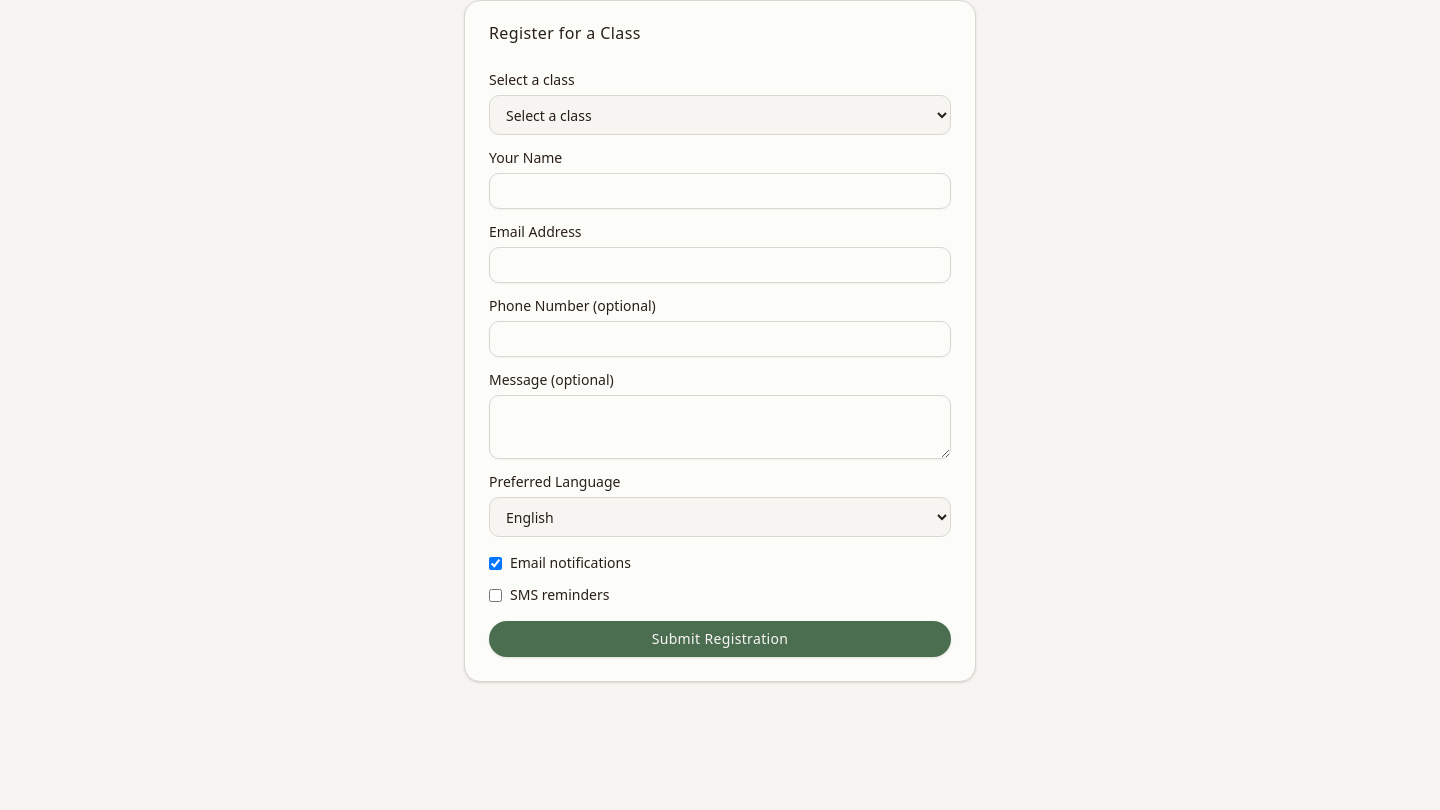
RegistrationForm - Consent Flow › Consent Warning and Modal › should open consent modal when Sign Waiver button is clicked
Step 1. Select "Morning Hatha - Free" in the dropdown labelled "Select a class" → (720, 115), box [489, 95, 951, 135]
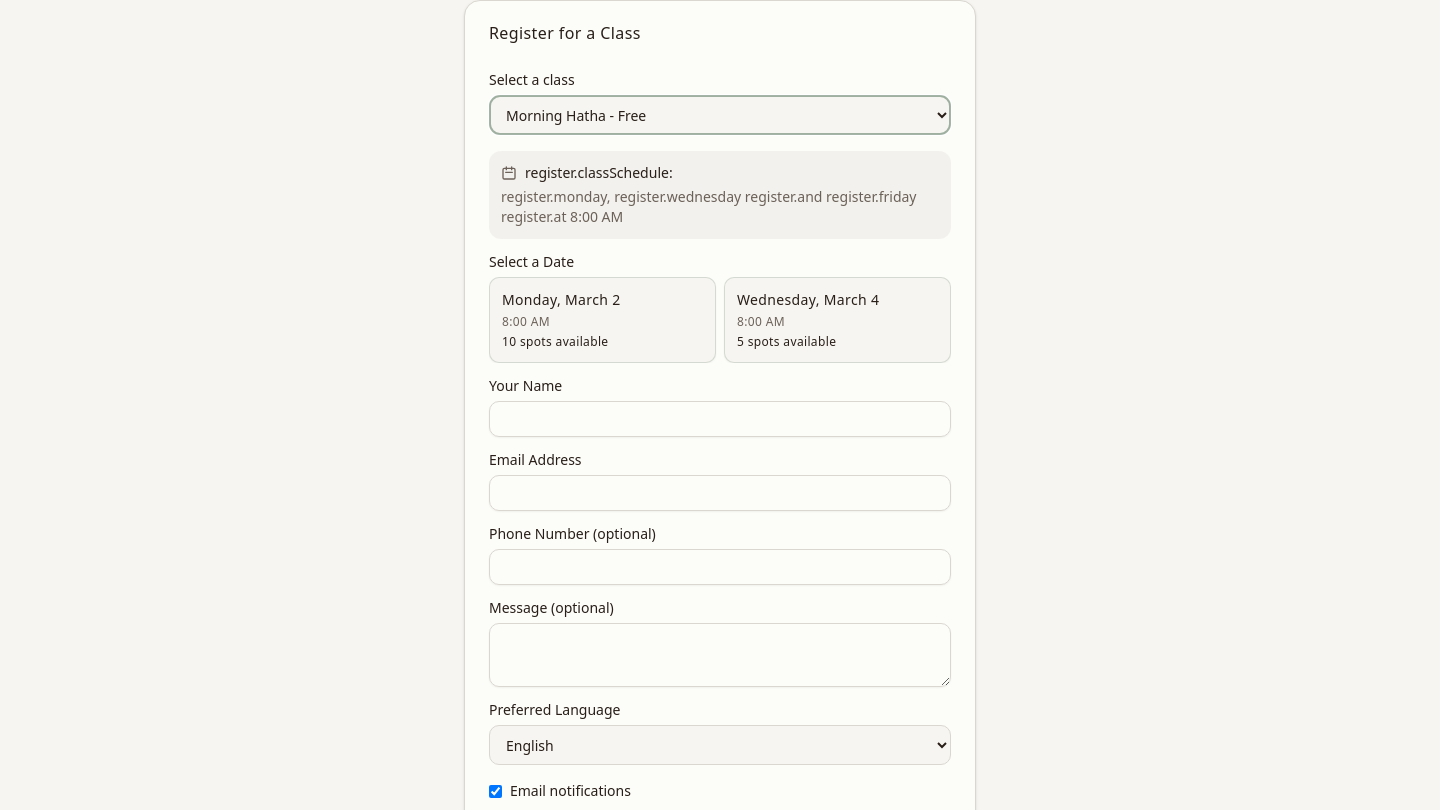
Step 2. Type "john@example.com" into the field labelled "Email Address" → (720, 493), box [489, 475, 951, 511]
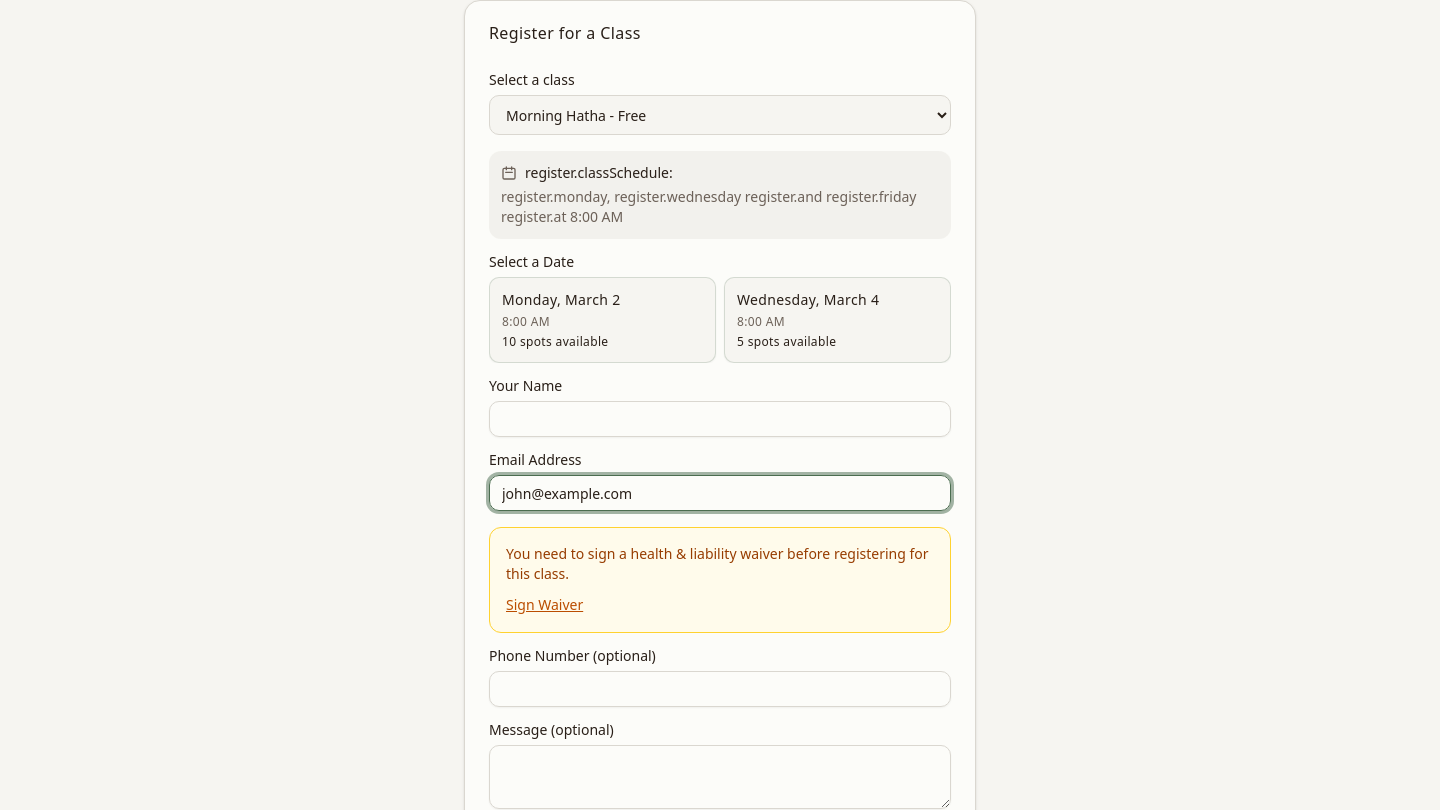
Now the button "Sign Waiver" is shown
Step 3. Click the button "Sign Waiver" → (545, 605), box [506, 595, 583, 615]
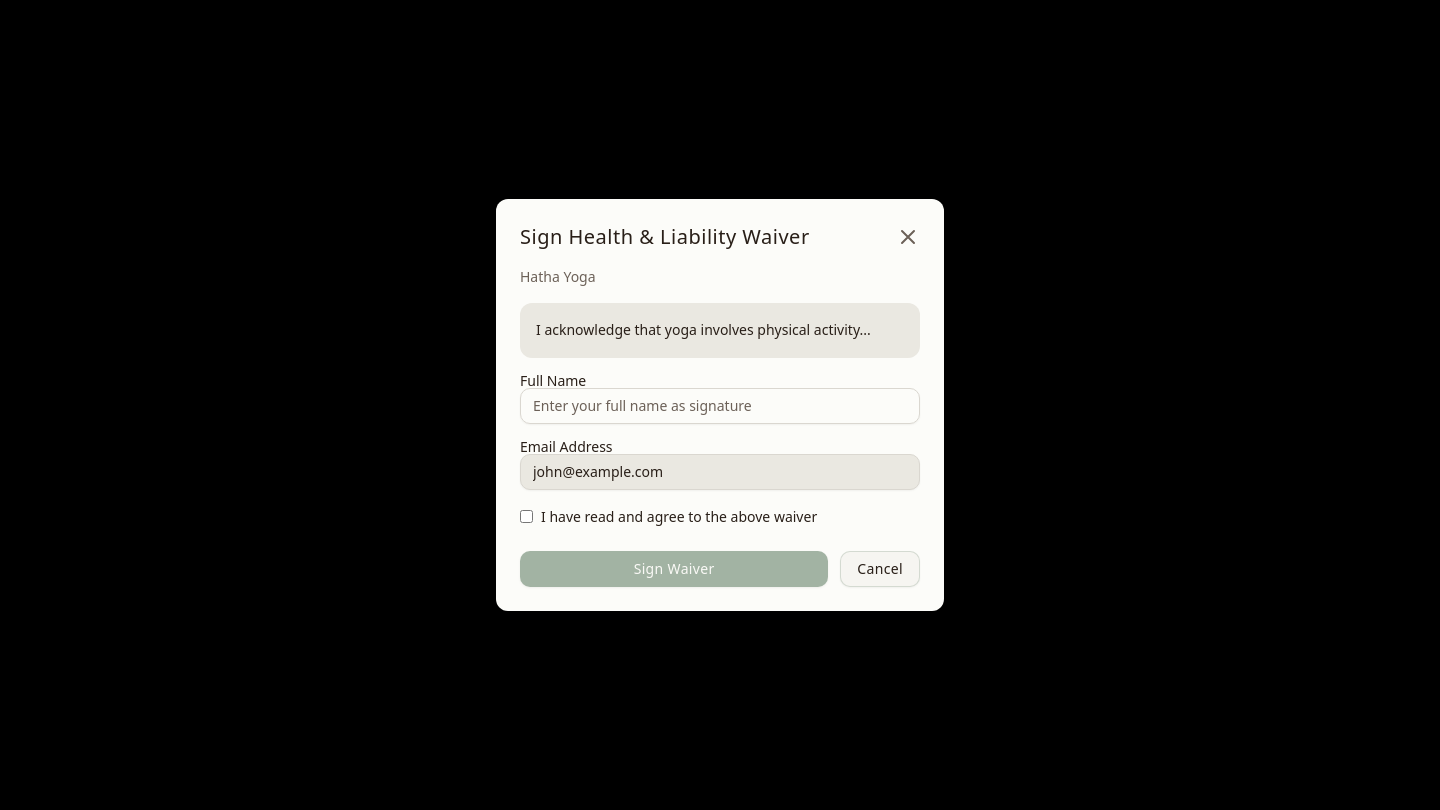
Now the heading "Sign Health & Liability Waiver" is shown, box [520, 223, 810, 251]
Now the text "I acknowledge that yoga involves physical activity..." is shown, box [520, 303, 920, 358]
